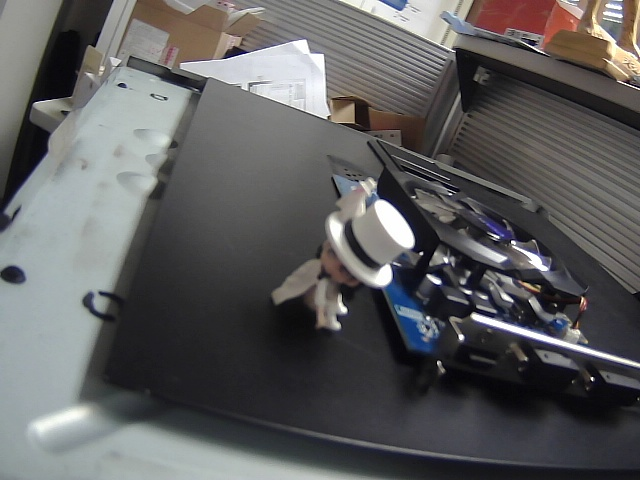lucci: (257, 171, 417, 360)
